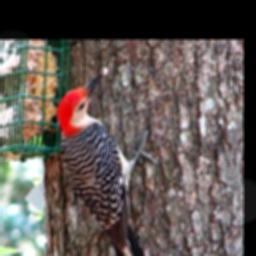Woodpecker: (57, 67, 162, 256)
